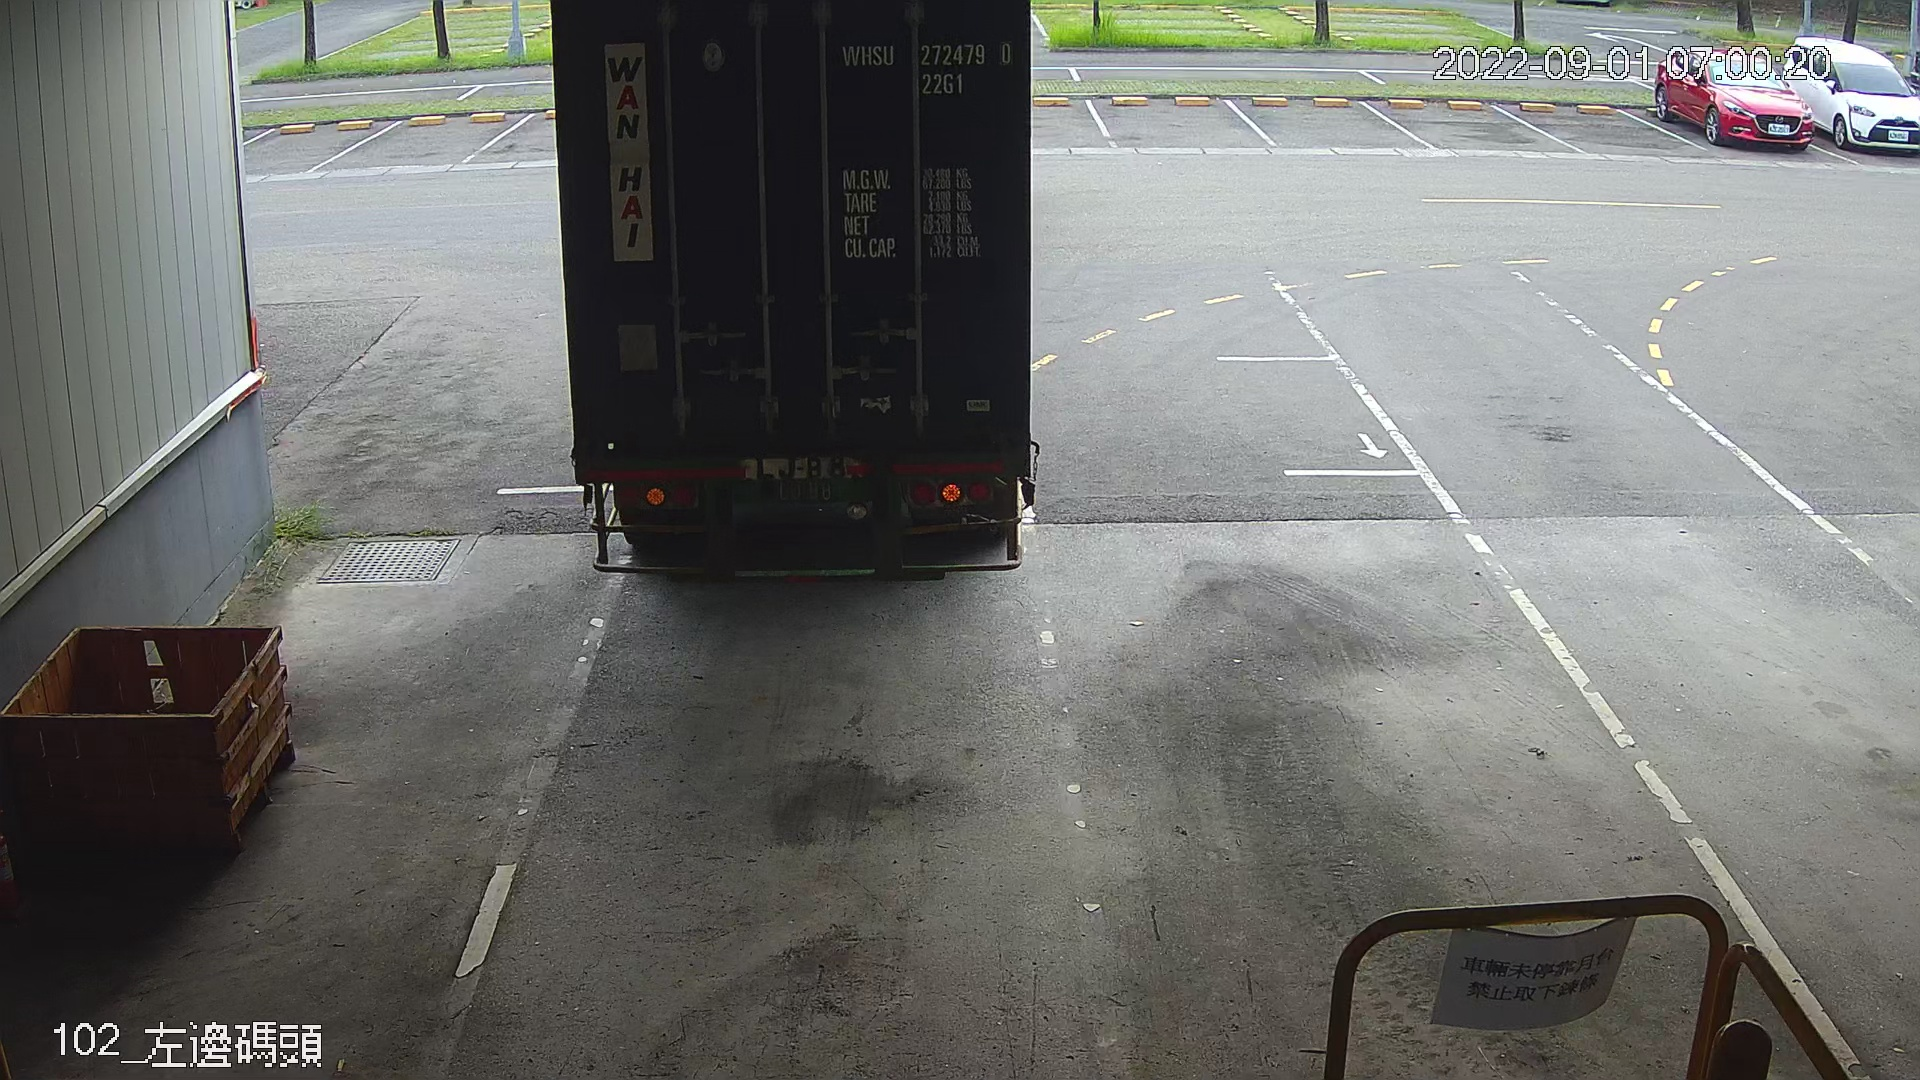container: (835, 30, 1022, 105)
